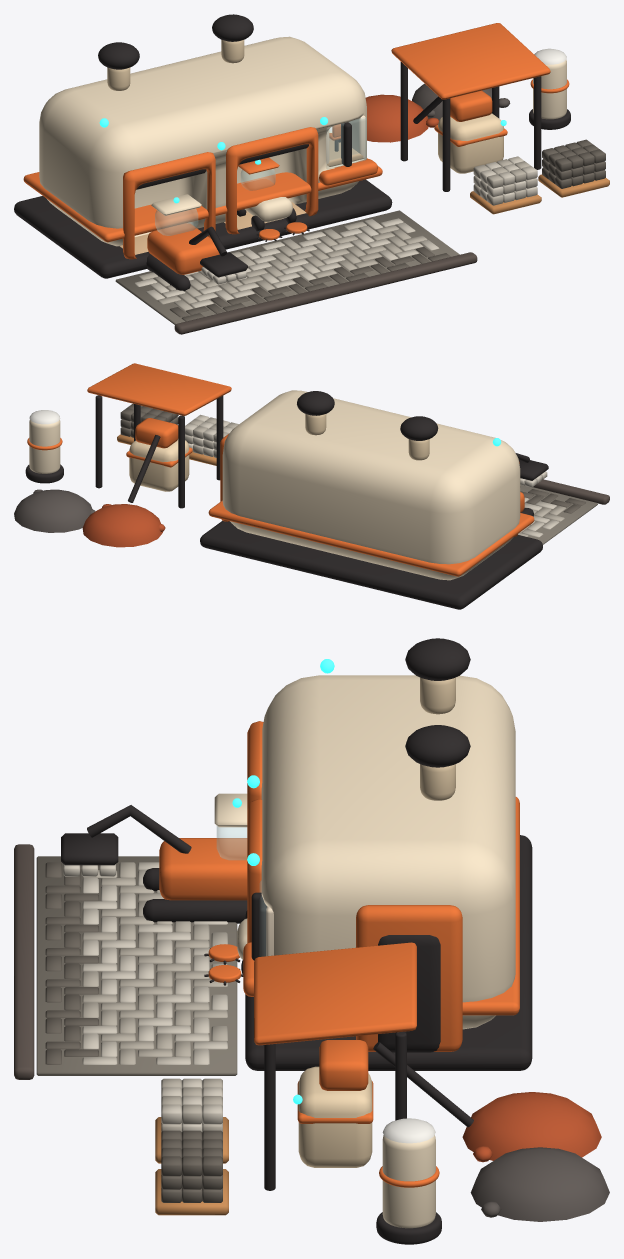
File: roaddepot.glb
3 views of the same model, one above another, from view 1: azimuth 30°, elevation 25°; view 2: azimuth 150°, elevation 25°; view 3: azimuth 270°, elevation 25° (orthographic). The views are drawn at different scales.
Parts seen in each view (by area): view 1: Cube.001, Cube.002, Cube, Cube.015, Cube.047, Cube.044, Cube.043, Cube.165, Cube.031, Cube.012, Sphere.011, Cube.170 (+3 smaller); view 2: Cube.001, Cube, Cube.002, Cube.031, Sphere.011, Sphere.016, Cube.044, Cube.015, Cube.043, Cube.047, Cube.165, Cube.170 (+1 smaller); view 3: Cube.001, Cube.002, Cube, Cube.015, Cube.047, Cube.043, Cube.044, Sphere.016, Cube.031, Sphere.011, Cube.165, Cube.170 (+2 smaller).
Boxes of the visible parts, left/top/right/bottom form: Cube.001: left=39, top=36, right=566, bottom=246; Cube.002: left=23, top=23, right=569, bottom=274; Cube: left=14, top=14, right=570, bottom=291; Cube.015: left=134, top=156, right=537, bottom=307; Cube.047: left=138, top=159, right=537, bottom=310; Cube.044: left=170, top=139, right=605, bottom=321; Cube.043: left=115, top=210, right=459, bottom=324; Cube.165: left=174, top=252, right=477, bottom=334; Cube.031: left=107, top=39, right=503, bottom=173; Cube.012: left=155, top=117, right=366, bottom=235; Sphere.011: left=365, top=94, right=438, bottom=142; Cube.170: left=470, top=174, right=609, bottom=214; Cube.001: left=29, top=390, right=520, bottom=580; Cube: left=25, top=391, right=548, bottom=609; Cube.002: left=27, top=363, right=534, bottom=576; Cube.031: left=129, top=414, right=429, bottom=491; Sphere.011: left=82, top=504, right=165, bottom=547; Sphere.016: left=14, top=489, right=95, bottom=532; Cube.044: left=120, top=403, right=585, bottom=513; Cube.015: left=185, top=414, right=559, bottom=537; Cube.043: left=519, top=484, right=597, bottom=544; Cube.047: left=185, top=417, right=565, bottom=536; Cube.165: left=524, top=479, right=609, bottom=504; Cube.170: left=117, top=434, right=216, bottom=465; Cube.001: left=214, top=675, right=515, bottom=1228; Cube.002: left=159, top=721, right=519, bottom=1187; Cube: left=61, top=638, right=532, bottom=1244; Cube.015: left=63, top=862, right=227, bottom=1131; Cube.047: left=82, top=862, right=227, bottom=1131; Cube.043: left=36, top=856, right=237, bottom=1075; Cube.044: left=45, top=862, right=222, bottom=1202; Sphere.016: left=470, top=1147, right=609, bottom=1221; Cube.031: left=298, top=677, right=455, bottom=1167; Sphere.011: left=462, top=1092, right=601, bottom=1162; Cube.165: left=14, top=844, right=34, bottom=1079; Cube.170: left=155, top=1117, right=228, bottom=1215.
Size of the model in its own units: 2.27 by 0.724 by 1.45.
